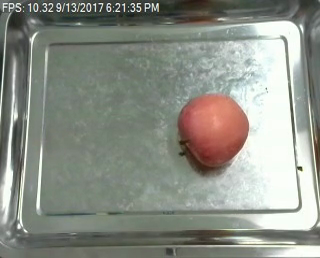Apple: (178, 90, 248, 169)
